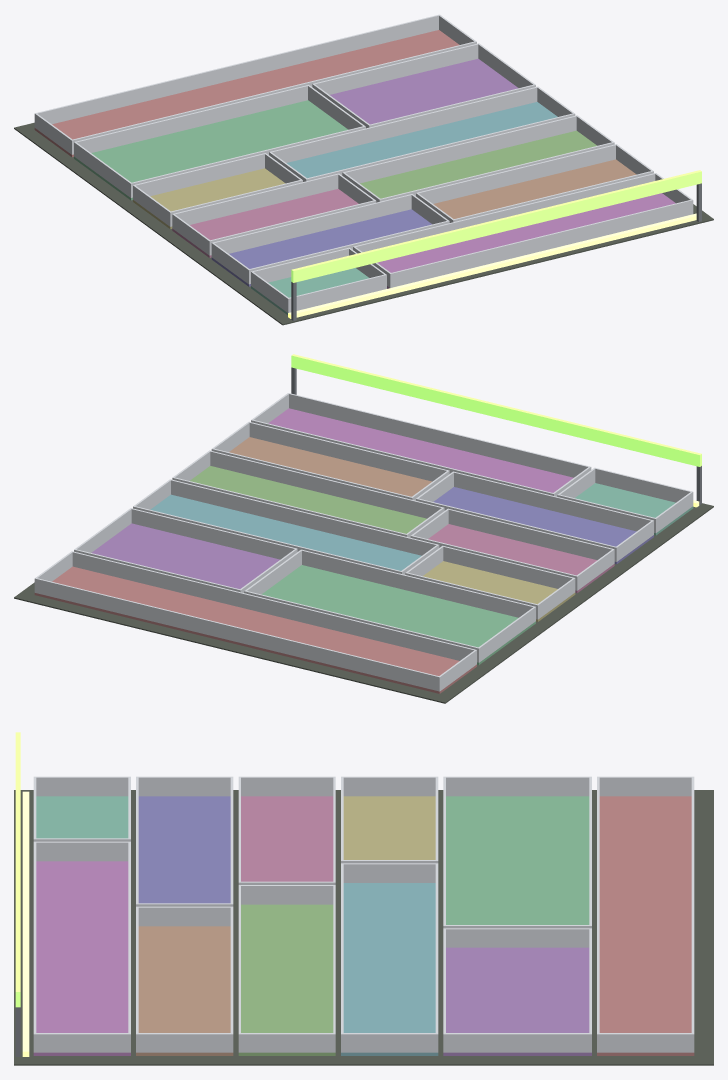
Rendered from hall-concrete-pump.glb.
The picture shows the model from 3 angles, top to bottom: view 1: azimuth 30°, elevation 25°; view 2: azimuth 150°, elevation 25°; view 3: azimuth 270°, elevation 25°; orthographic projection. The views are drawn at different scales.
Parts seen in each view (by area): view 1: Concrete Pump Operators; view 2: Concrete Pump Operators; view 3: Concrete Pump Operators.
Boxes of the visible parts, left/top/right/bottom form: Concrete Pump Operators: left=14, top=14, right=713, bottom=325; Concrete Pump Operators: left=14, top=354, right=713, bottom=703; Concrete Pump Operators: left=14, top=732, right=713, bottom=1065.
Size of the model in its own units: 38 by 4.3 by 41.
